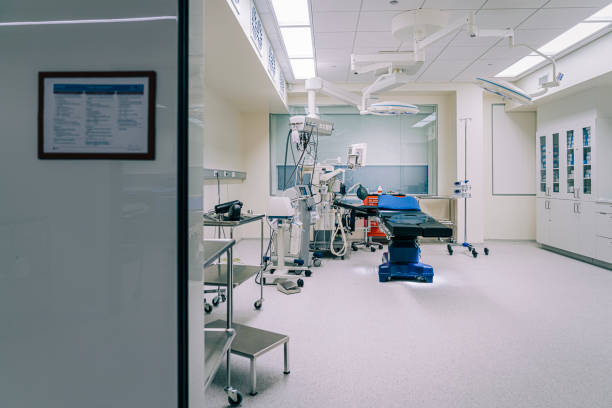cabinet: (536, 123, 593, 259)
chair: (202, 319, 303, 379)
handle: (577, 189, 580, 198), (573, 189, 576, 198), (577, 203, 580, 212), (573, 203, 576, 212), (548, 187, 551, 196), (548, 200, 551, 209), (545, 200, 548, 209), (545, 187, 548, 196)
iv_pole: (447, 117, 488, 258)
operating_bed: (332, 185, 453, 283)
surgical_light: (472, 75, 532, 104), (367, 100, 418, 115)
utility_cart: (204, 240, 243, 408), (204, 213, 264, 314)
